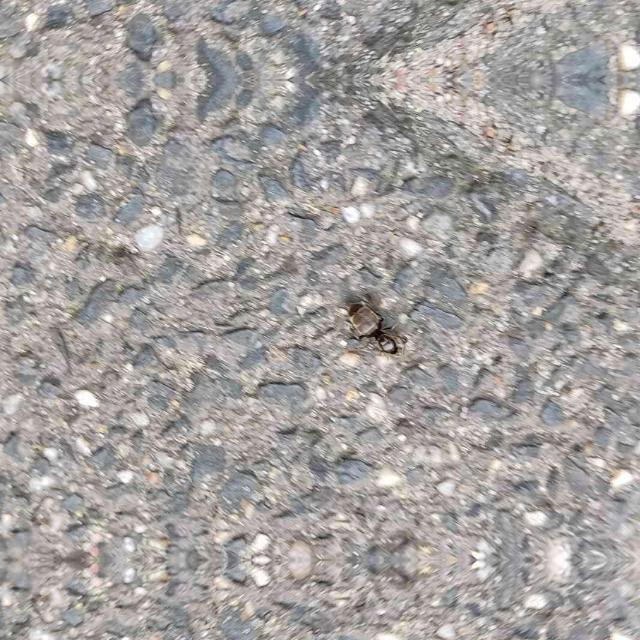Lasius: (336, 300, 412, 364)
